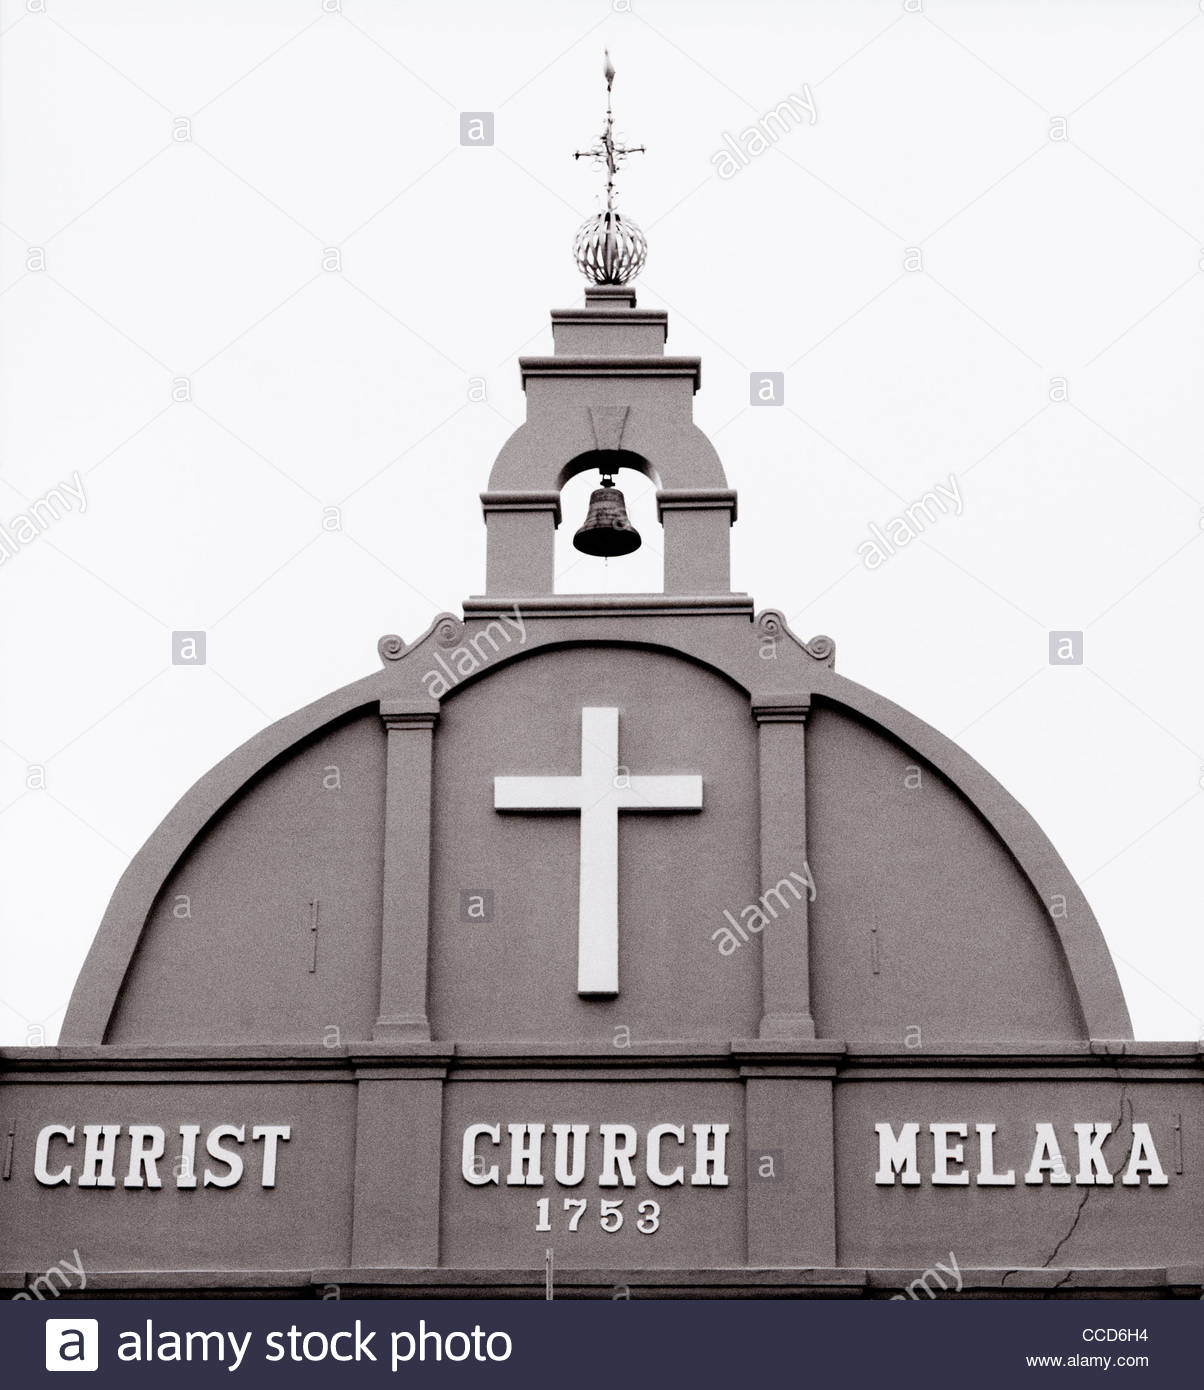Church: (41, 43, 1193, 1287)
